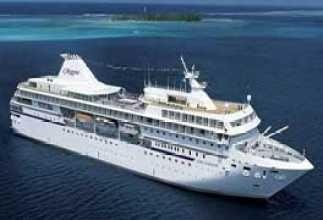youlun: (8, 47, 320, 196)
